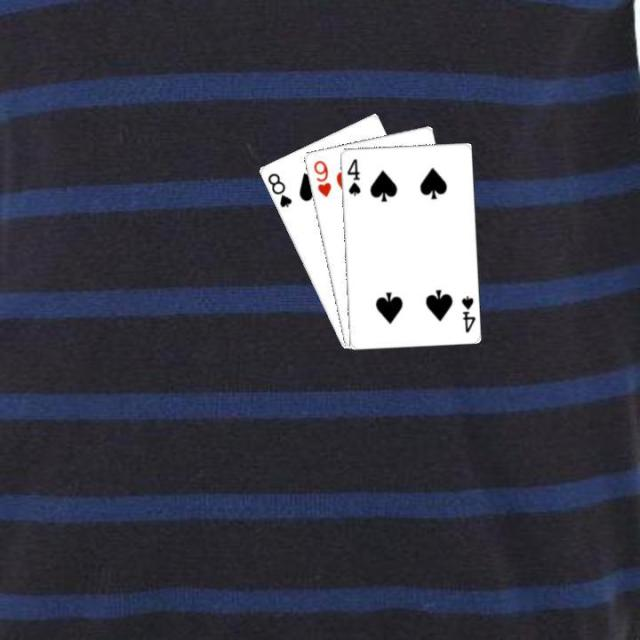4S: (342, 155, 362, 197), (458, 292, 476, 334)
8S: (263, 169, 293, 209)
9H: (310, 156, 332, 198)
